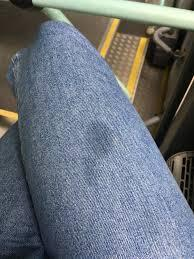oil: (77, 119, 114, 183)
